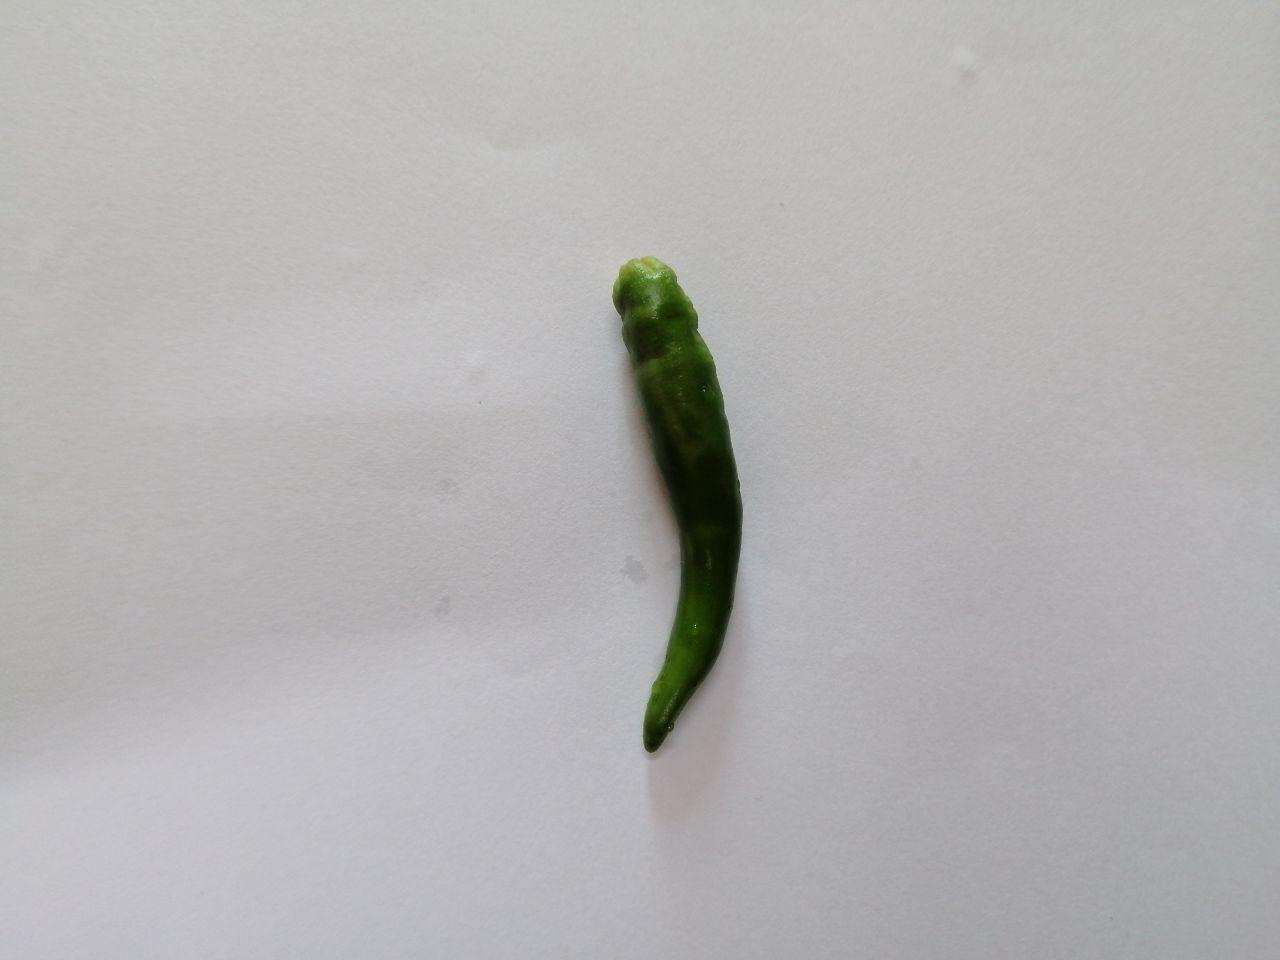lada hijau: (575, 240, 788, 772)
